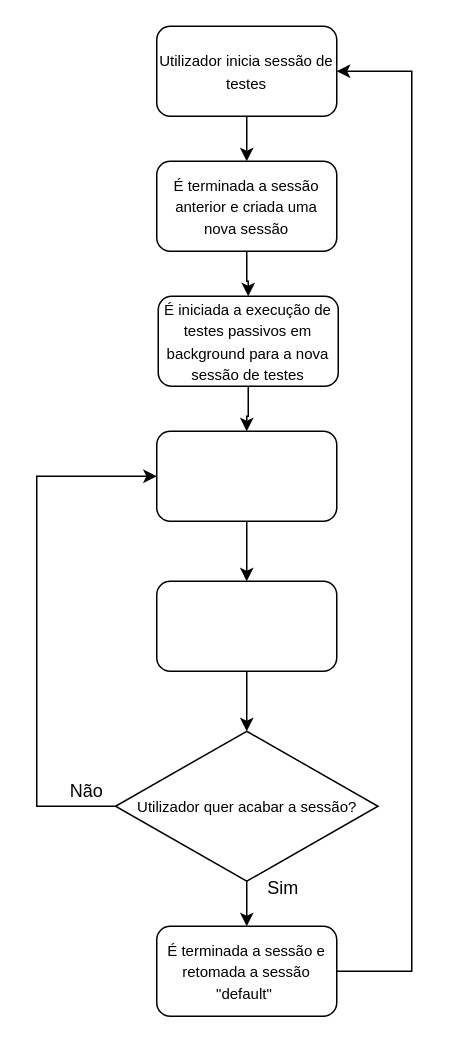
Image size: 450x1043. Some labels were removed from this diagram. Here are the shapes that lost their labels. From the top down, the centre of each, then its label:
At pixel 246 475: "São executados os testes ao dispositivo passivamente".
At pixel 246 625: "Resultados são guardados na base de dados".
